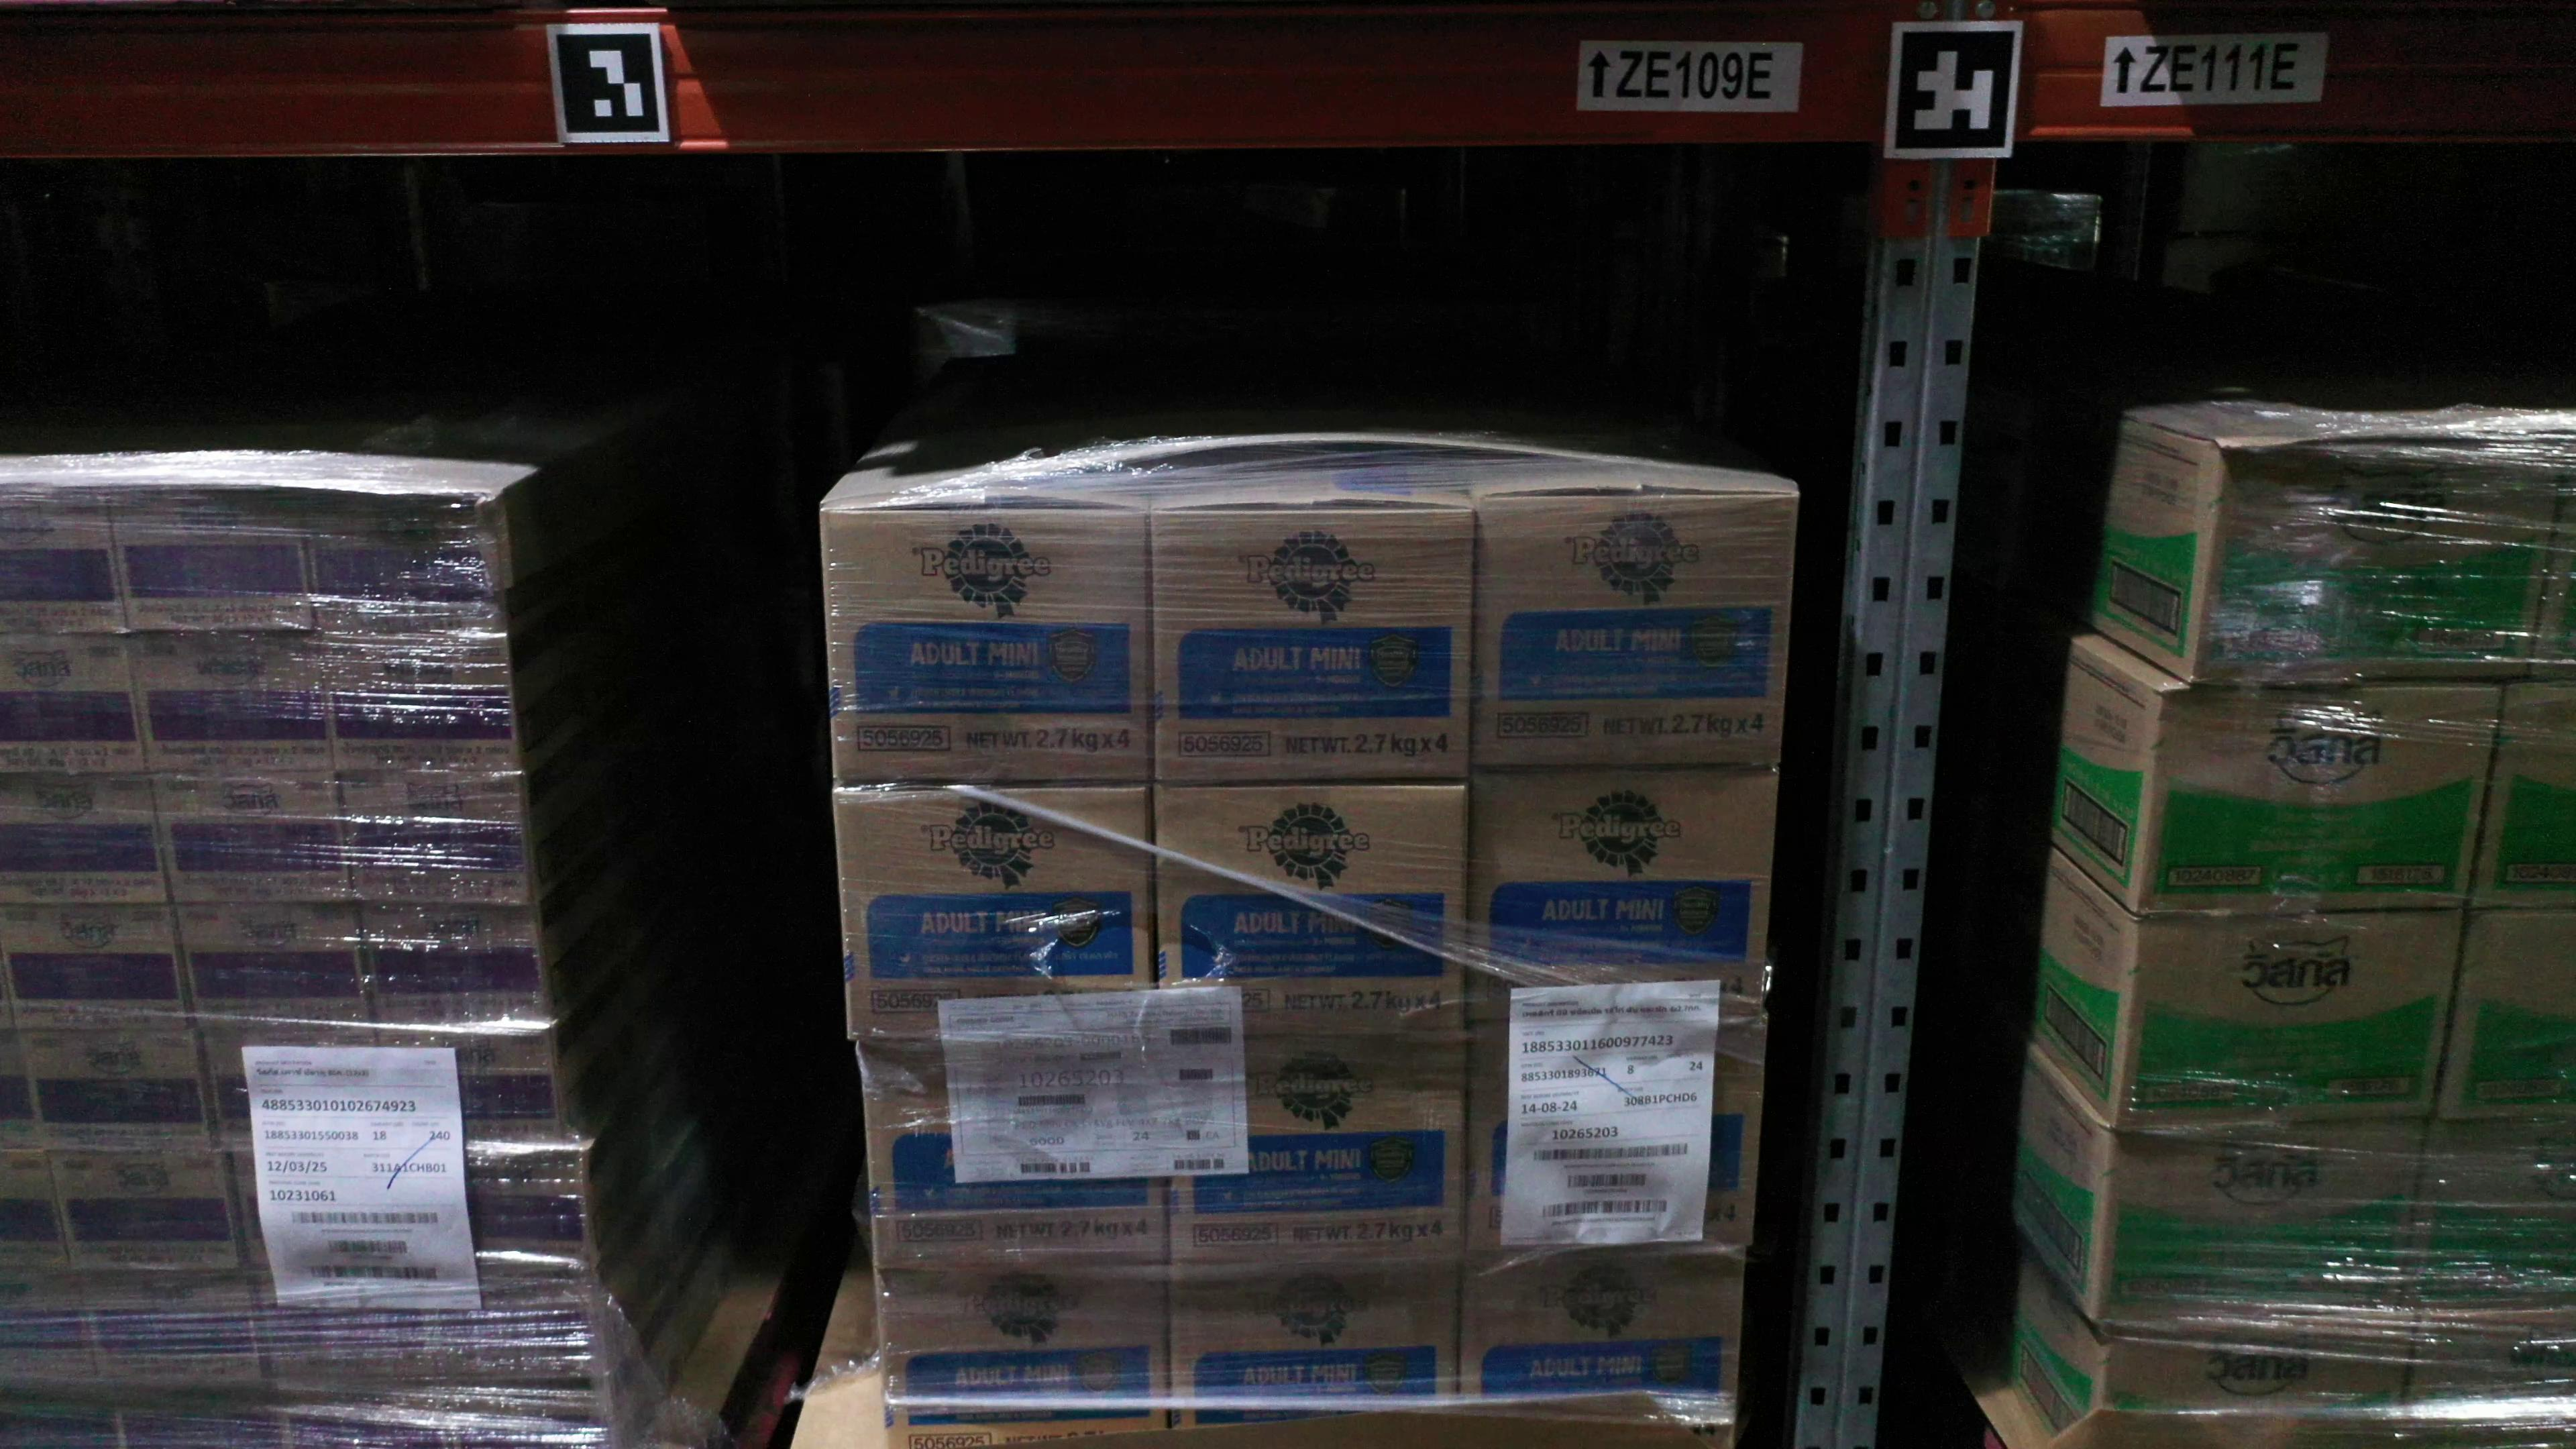-: (819, 508, 1152, 789), (1150, 506, 1472, 789), (2194, 441, 2560, 685), (1474, 497, 1799, 771), (1467, 768, 1778, 1040), (832, 786, 1155, 1044), (2134, 686, 2500, 915), (1154, 782, 1467, 1044), (2111, 909, 2463, 1129), (1161, 1033, 1467, 1279), (1465, 1024, 1766, 1263), (862, 1040, 1164, 1274), (2091, 1122, 2429, 1329), (1460, 1254, 1744, 1449), (872, 1265, 1169, 1449), (1168, 1270, 1460, 1435), (2399, 1118, 2576, 1320), (2433, 906, 2576, 1122), (127, 628, 338, 775), (104, 485, 317, 630), (2098, 1325, 2415, 1421), (317, 628, 520, 777), (301, 483, 506, 628), (149, 770, 356, 904), (336, 773, 536, 906), (173, 902, 375, 1033), (14, 1028, 216, 1154), (396, 1150, 596, 1276), (2466, 681, 2576, 909), (356, 902, 552, 1030), (375, 1026, 566, 1150), (2396, 1313, 2574, 1442), (46, 1150, 241, 1269), (230, 1150, 416, 1272), (203, 1031, 393, 1150), (419, 1269, 607, 1385), (73, 1270, 265, 1382), (258, 1267, 441, 1382), (0, 481, 131, 637), (101, 1378, 288, 1449), (272, 1378, 455, 1445), (444, 1382, 616, 1449), (0, 1267, 101, 1380), (2534, 456, 2576, 681), (0, 1376, 129, 1449), (0, 1148, 73, 1267), (0, 1026, 41, 1148)
